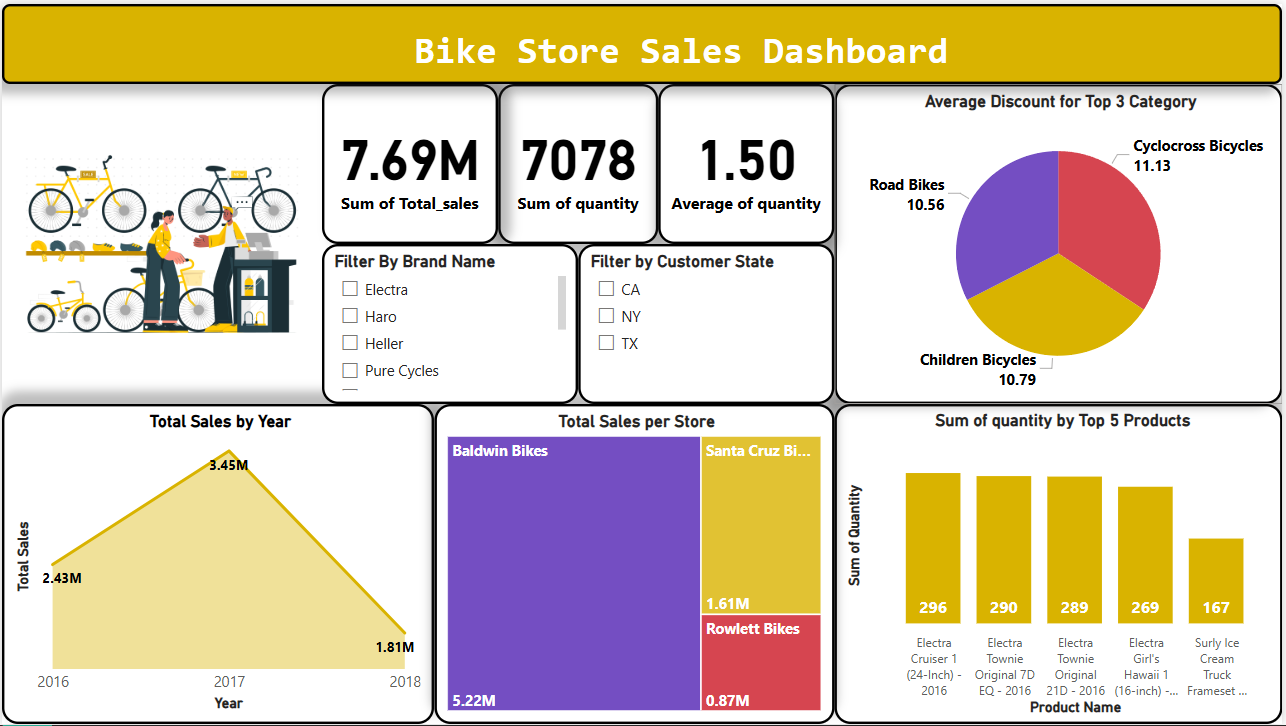

The page's visual inventory and layout, read from the dashboard file:
{"tool":"powerbi","page":{"name":"Page 1","canvas":[1280,720],"ordinal":0},"visuals":[{"type":"lineChart","title":"Total Sales by Year","fields":{"Category":["orders.order_date.Variation.Date Hierarchy.Year"],"Y":["Sum(order_items.Total_sales)"]},"box":[0,400,432,320],"z":0},{"type":"columnChart","title":"Sum of quantity by Top 5  Products","fields":{"Y":["Sum(order_items.quantity)"],"Category":["products.product_name"]},"box":[832,400,448,320],"z":1000},{"type":"treemap","title":"Total Sales per Store","fields":{"Group":["stores.store_name"],"Values":["Sum(order_items.Total_sales)"]},"box":[432,400,400,320],"z":2000},{"type":"pieChart","title":"Average Discount for Top 3 Category","fields":{"Category":["categories.category_name"],"Y":["Avg(order_items.Discount percent)"]},"box":[832,80,448,320],"z":3000},{"type":"card","fields":{"Values":["Sum(order_items.quantity)"]},"box":[496,80,160,160],"z":4000},{"type":"card","fields":{"Values":["Sum(order_items.Total_sales)"]},"box":[320,80,176,160],"z":5000},{"type":"card","fields":{"Values":["Avg(order_items.quantity)"]},"box":[656,80,176,160],"z":6000},{"type":"slicer","title":"Filter By Brand Name","fields":{"Values":["brands.brand_name"]},"box":[320,240,256,160],"z":7000},{"type":"textbox","box":[0,0,1280,80],"z":8000},{"type":"image","box":[0,80,320,320],"z":9000},{"type":"slicer","title":"Filter by Customer State","fields":{"Values":["customers.state"]},"box":[576,240,256,160],"z":9001}]}

Visuals, with their boxes in screenshot pixels (x1, y1, x2, y2), scaled from the page's 1280x720 canvas onto the 1286x726 screenshot:
"Total Sales by Year" lineChart: {"left": 0, "top": 403, "right": 434, "bottom": 725}
"Sum of quantity by Top 5  Products" columnChart: {"left": 836, "top": 403, "right": 1285, "bottom": 725}
"Total Sales per Store" treemap: {"left": 434, "top": 403, "right": 836, "bottom": 725}
"Average Discount for Top 3 Category" pieChart: {"left": 836, "top": 81, "right": 1285, "bottom": 403}
card - Sum(order_items.quantity): {"left": 498, "top": 81, "right": 659, "bottom": 242}
card - Sum(order_items.Total_sales): {"left": 322, "top": 81, "right": 498, "bottom": 242}
card - Avg(order_items.quantity): {"left": 659, "top": 81, "right": 836, "bottom": 242}
"Filter By Brand Name" slicer: {"left": 322, "top": 242, "right": 579, "bottom": 403}
textbox: {"left": 0, "top": 0, "right": 1285, "bottom": 81}
image: {"left": 0, "top": 81, "right": 322, "bottom": 403}
"Filter by Customer State" slicer: {"left": 579, "top": 242, "right": 836, "bottom": 403}
